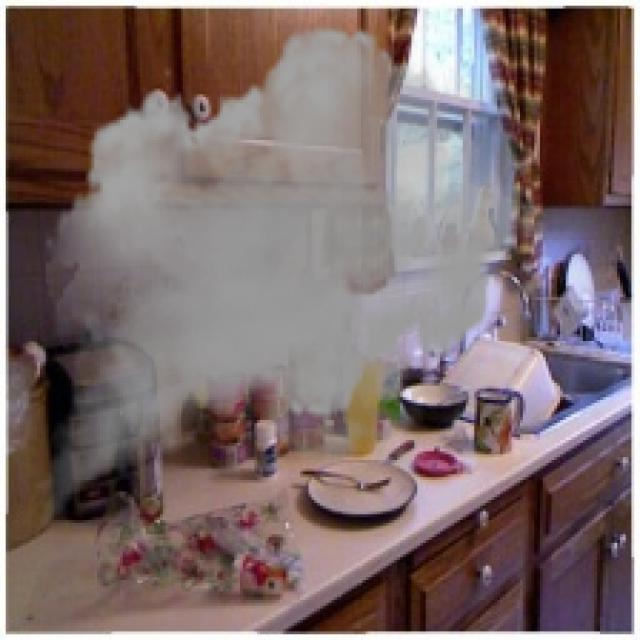smoke: (26, 12, 548, 557)
